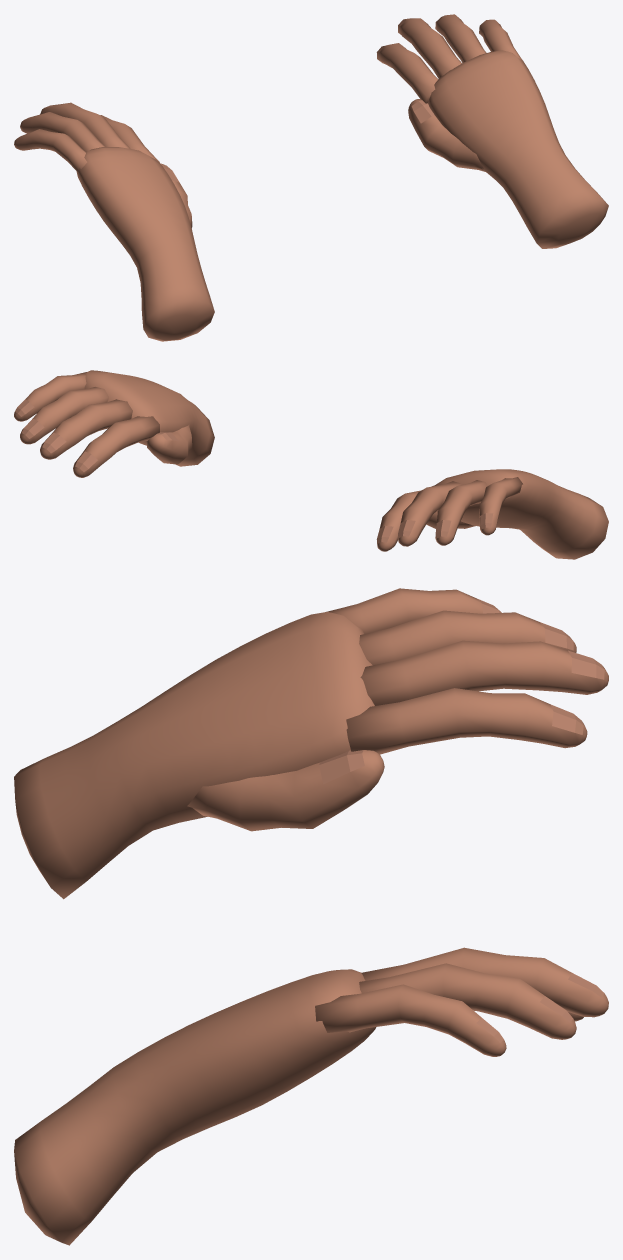
The model's file is FirstPersonHands.fbx.
The picture shows the model from 3 angles, top to bottom: view 1: azimuth 30°, elevation 25°; view 2: azimuth 150°, elevation 25°; view 3: azimuth 270°, elevation 25°; orthographic projection. The views are drawn at different scales.
Parts seen in each view (by area): view 1: Hand_R, Hand_L; view 2: Hand_R, Hand_L; view 3: Hand_L, Hand_R.
Boxes of the visible parts, x1,y1,x2,y2 form: Hand_R: [376, 14, 608, 248]; Hand_L: [14, 102, 214, 341]; Hand_R: [14, 370, 214, 477]; Hand_L: [376, 469, 608, 559]; Hand_L: [14, 588, 608, 899]; Hand_R: [14, 947, 608, 1245].
Bounding box in the file's own units: 0.394 × 0.1156 × 0.2273.
